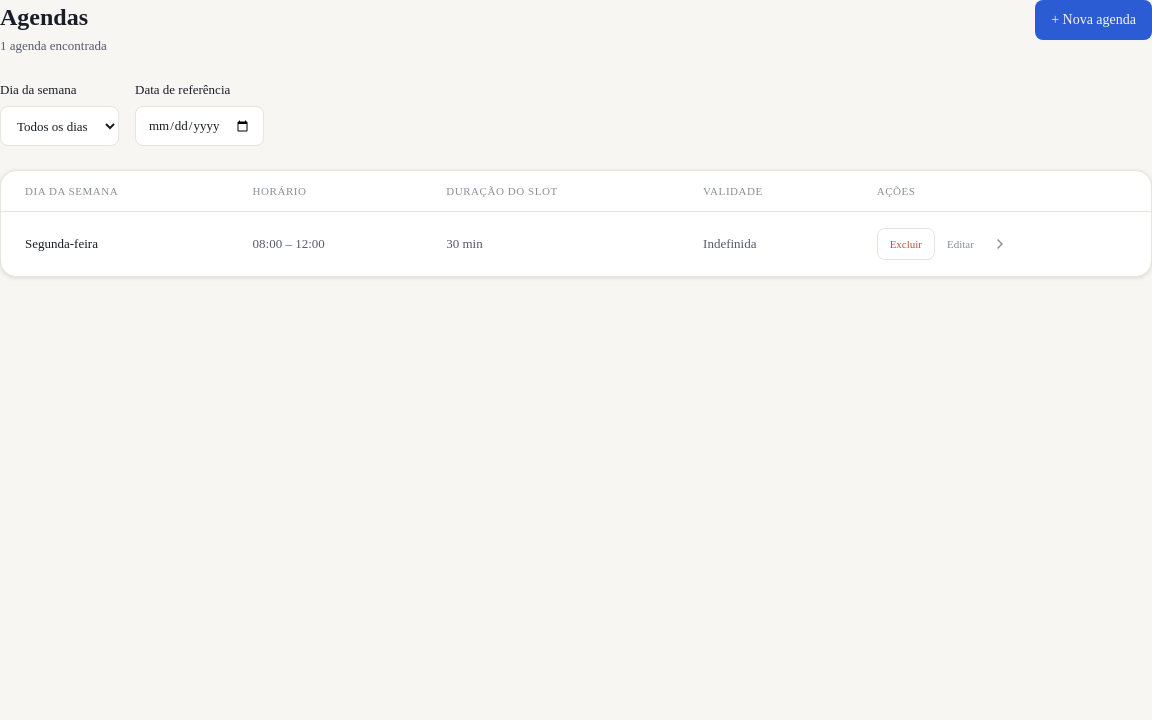
Test case: ScheduleList (integration) › as DOCTOR › opens delete dialog when delete button is clicked
Check: the table with test id "schedule-list-table" is shown, box left=1, top=171, right=1151, bottom=276
What coordinates should you click on to do the following:
click the button with test id "schedule-delete-button-uuid-1"
I would click on:
 (906, 244)
Its box is left=877, top=228, right=935, bottom=260.
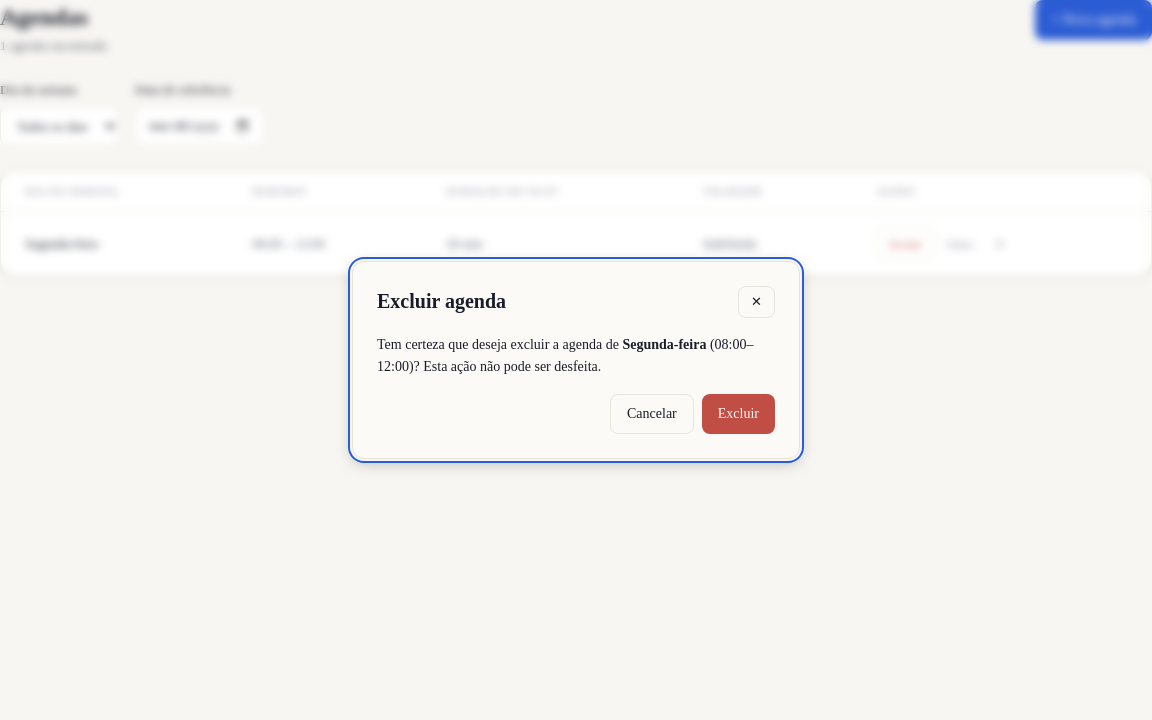
Check: the button with test id "delete-schedule-dialog-confirm" is shown, box left=702, top=394, right=775, bottom=434
